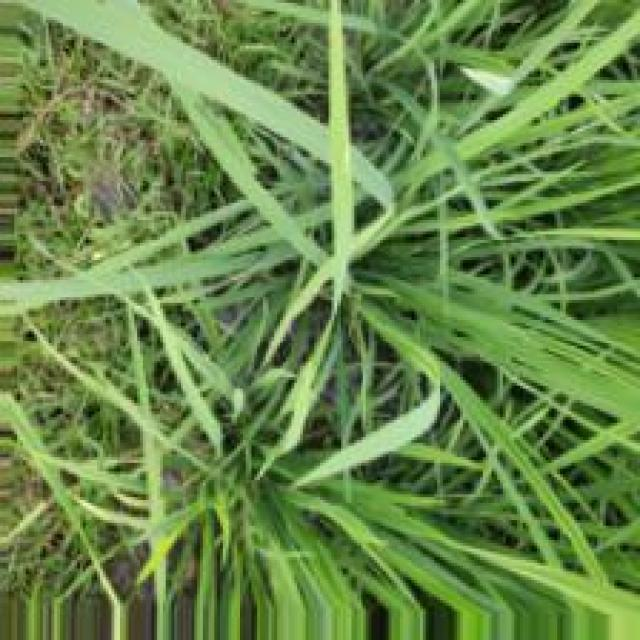HealthyLeaf: (220, 82, 323, 148), (497, 91, 554, 139), (432, 295, 499, 327)
